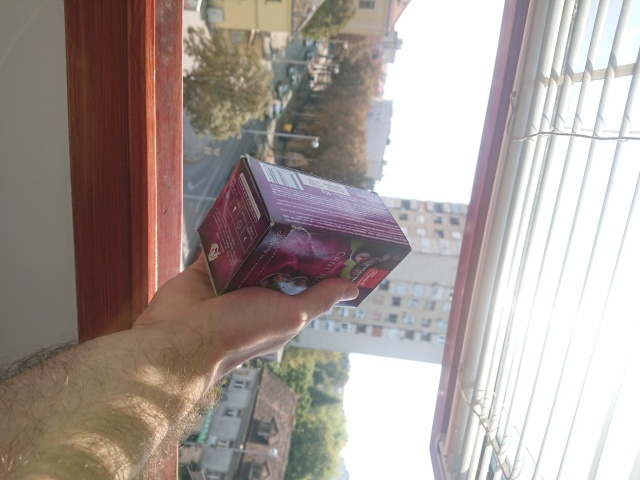Franck Black Currant Tea 60g: (194, 151, 414, 311)
